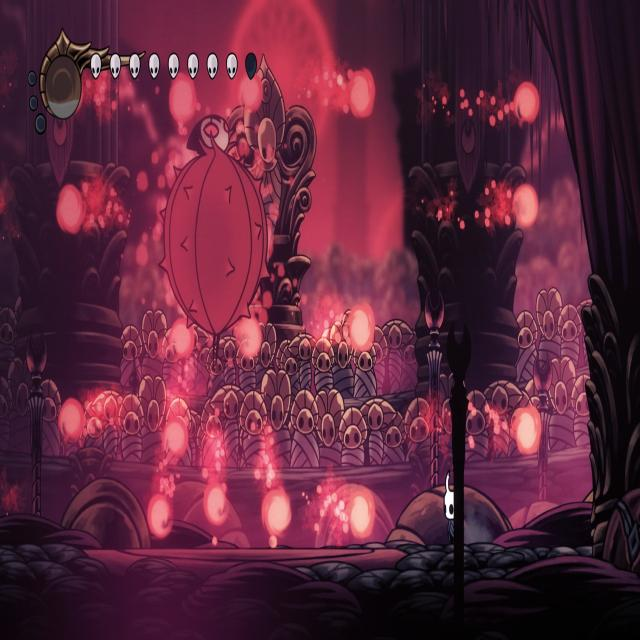Player: (441, 464, 466, 544)
Pufferfish: (155, 110, 274, 367)
Tiny Fireballs: (169, 74, 198, 130), (56, 183, 85, 235), (514, 407, 542, 456), (264, 489, 292, 536), (348, 70, 374, 119), (514, 81, 542, 126), (348, 304, 374, 352), (59, 397, 85, 442), (514, 183, 539, 229), (148, 495, 173, 541), (236, 318, 261, 362), (204, 485, 229, 527), (170, 319, 194, 360), (164, 418, 188, 459), (350, 494, 372, 534), (240, 76, 263, 114)
